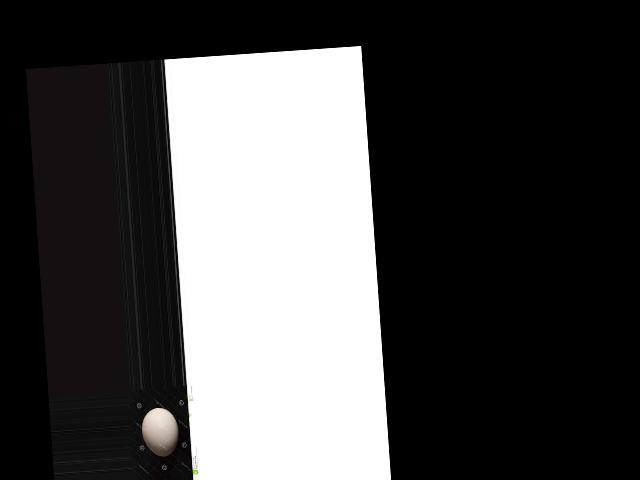egg: (140, 406, 180, 457)
